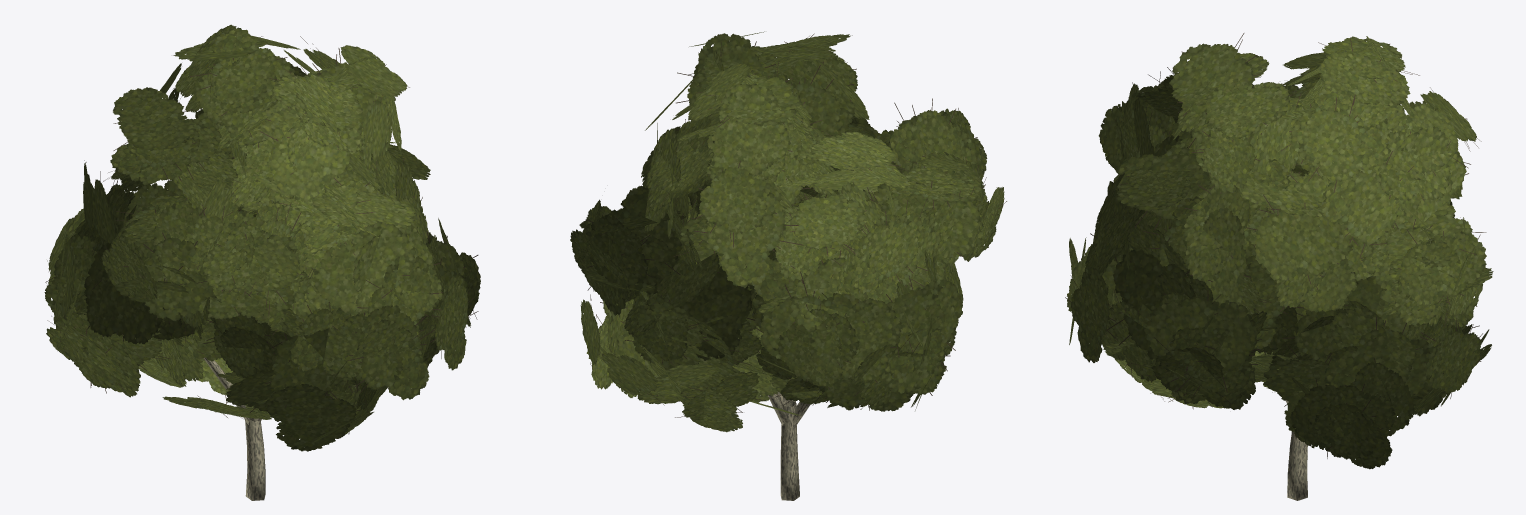
The model's file is SM_Albero_LatifogliaA_LOD2.fbx.
3 views of the same model, side by side, from view 1: azimuth 30°, elevation 25°; view 2: azimuth 150°, elevation 25°; view 3: azimuth 270°, elevation 25° (orthographic). The views are drawn at different scales.
Visible parts, largest first — view 1: SM_Albero_LatifogliaA_LOD2; view 2: SM_Albero_LatifogliaA_LOD2; view 3: SM_Albero_LatifogliaA_LOD2.
Part boxes in pixels (bbox=[...]): SM_Albero_LatifogliaA_LOD2: bbox=[44, 24, 480, 500]; SM_Albero_LatifogliaA_LOD2: bbox=[570, 31, 1006, 500]; SM_Albero_LatifogliaA_LOD2: bbox=[1065, 33, 1493, 500].
Bounding box in the file's own units: 1990 × 1938 × 2193.
2 materials, 2 textured.
